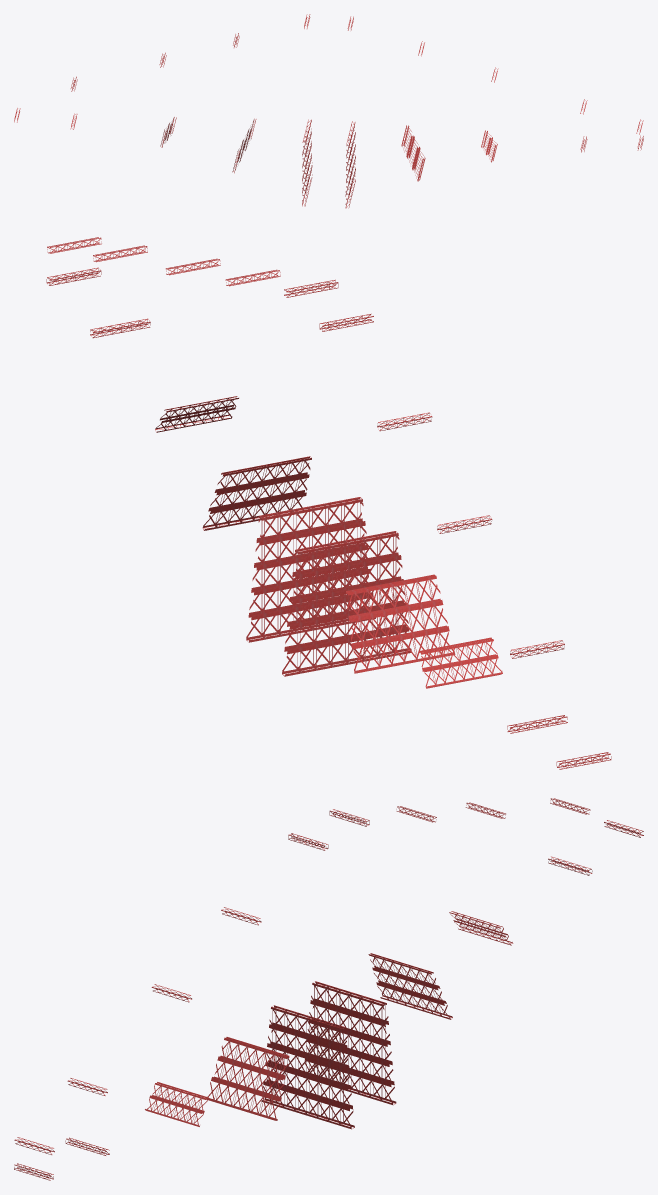
File: railbridge06_sfse.obj
The picture shows the model from 3 angles, top to bottom: view 1: azimuth 30°, elevation 25°; view 2: azimuth 150°, elevation 25°; view 3: azimuth 270°, elevation 25°; orthographic projection. The views are drawn at different scales.
Visible parts, largest first — view 1: railbridge06_sfse; view 2: railbridge06_sfse; view 3: railbridge06_sfse.
Boxes of the visible parts, x1,y1,x2,y2 form: railbridge06_sfse: (14,14,643,208); railbridge06_sfse: (46,237,611,769); railbridge06_sfse: (14,798,643,1180).
Size of the model in its own units: 224 by 80.61 by 167.
1 material, 1 textured.
